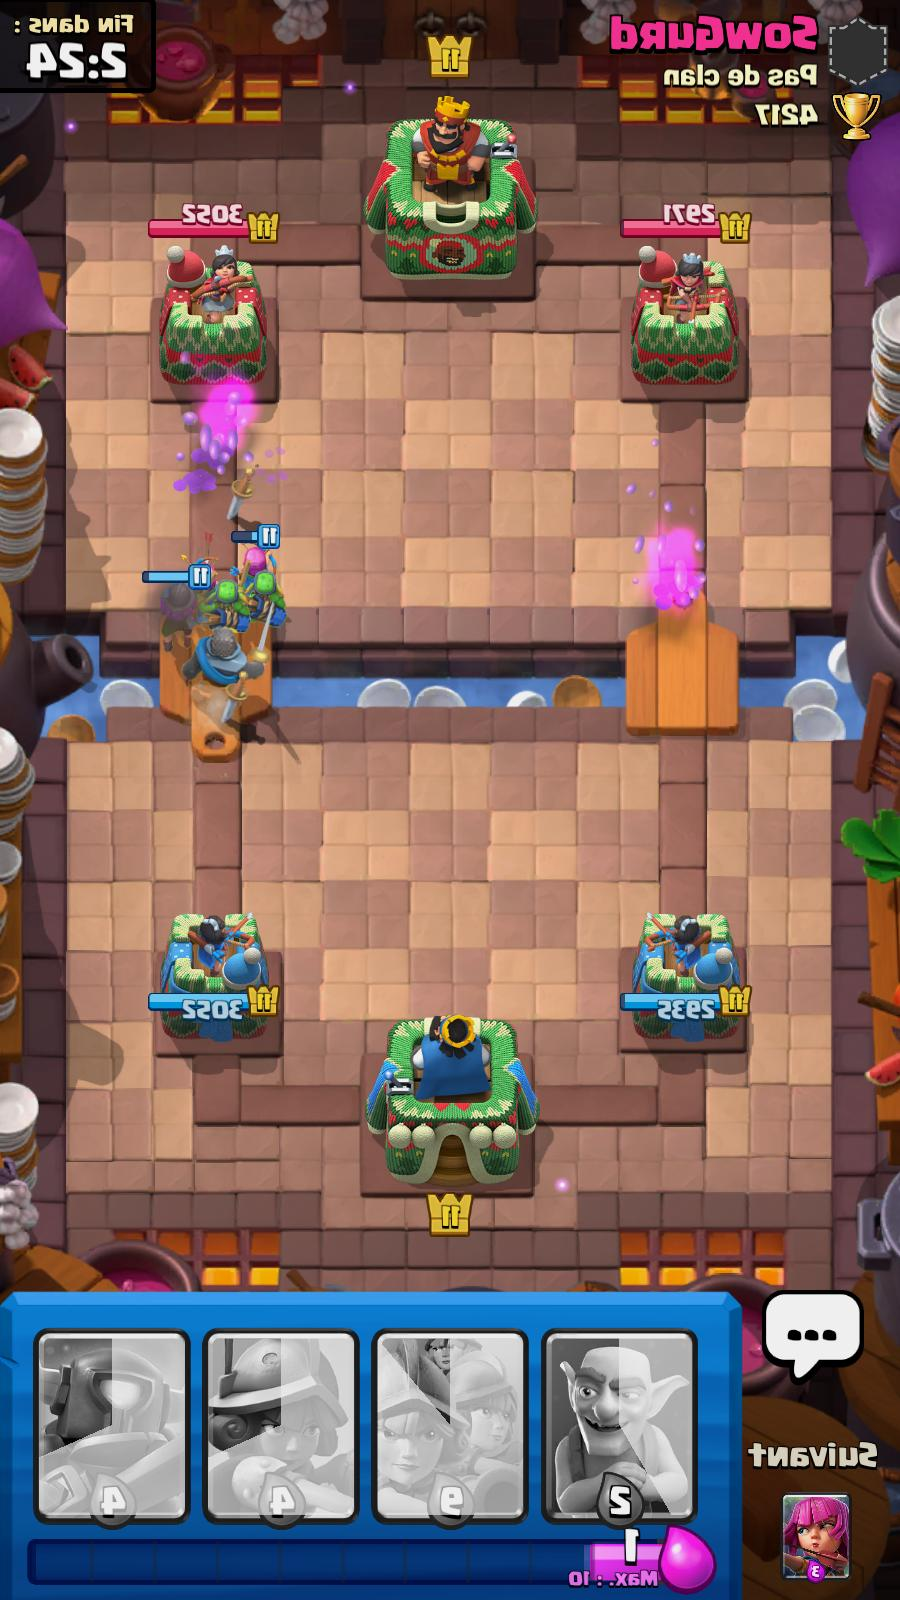archere: (233, 523, 279, 585), (181, 556, 224, 599)
chevalier: (189, 610, 276, 701)
gobelin_lances: (243, 570, 286, 621), (204, 575, 246, 621)
mousquetaire: (152, 558, 201, 654)
